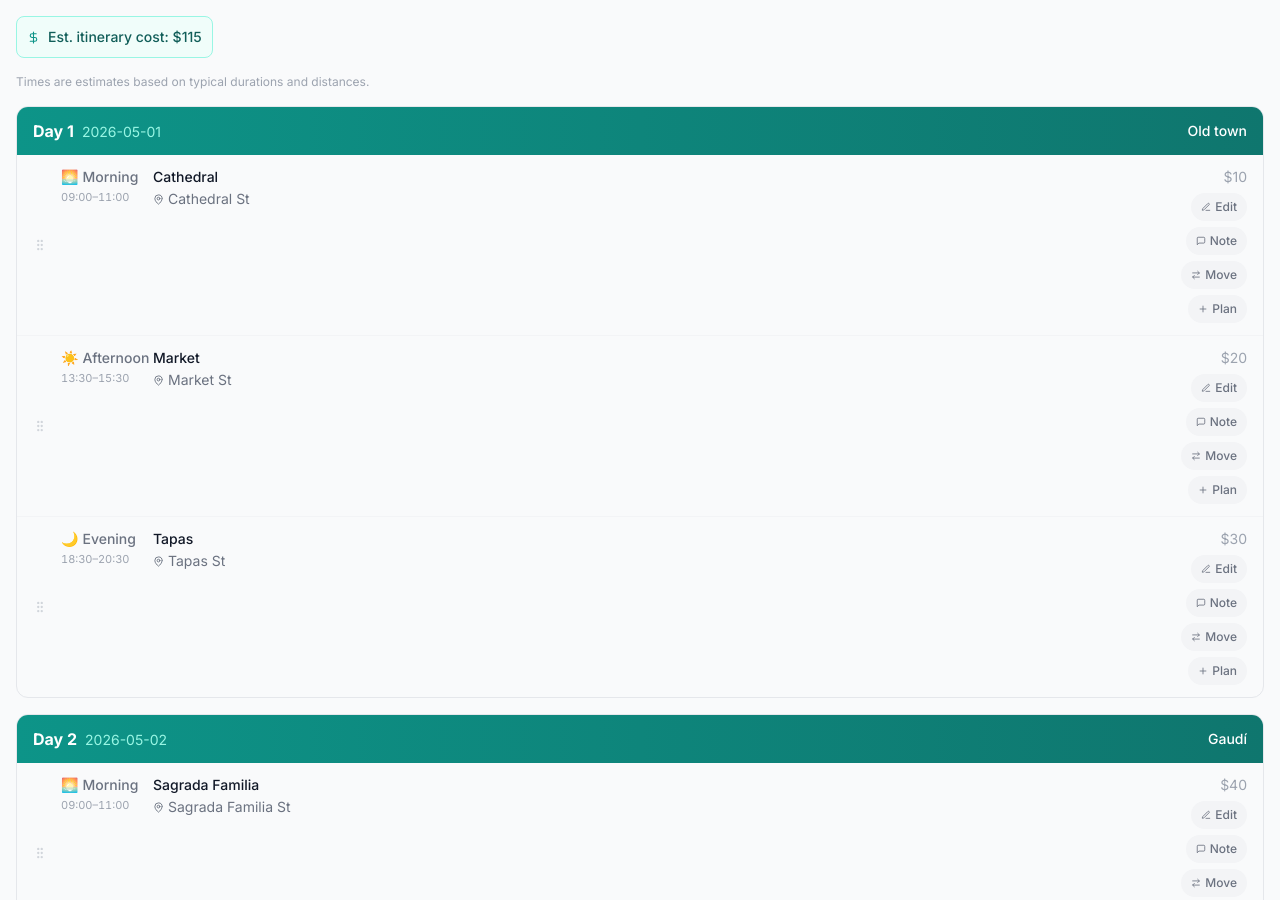
Test: ItinerarySection › Escape closes the Move menu and returns focus to its button
Click the button "Move" below "10".
click(1214, 275)  # box [1181,261,1247,289]
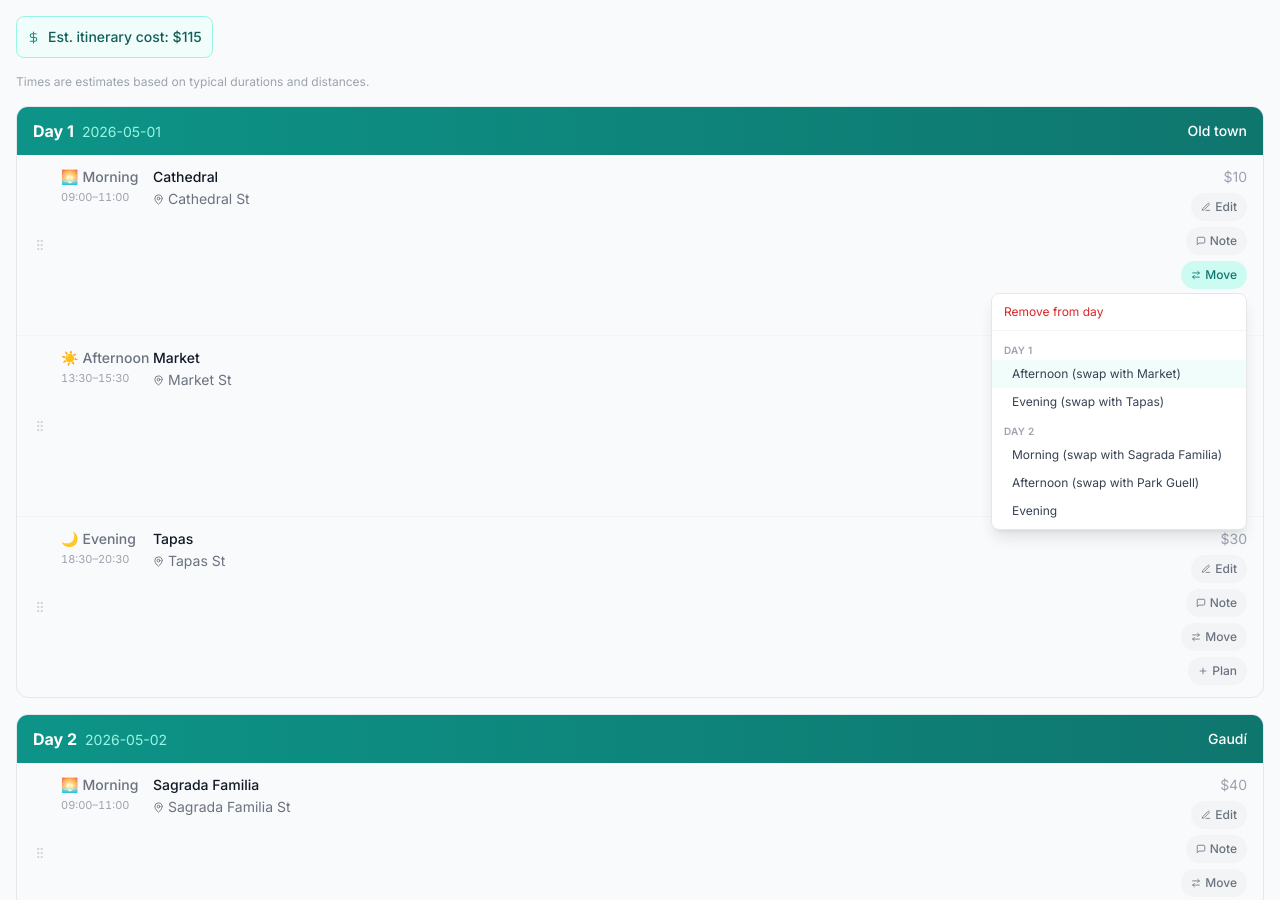
Press Escape in the menu item "Remove from day", box [992,298,1246,326]
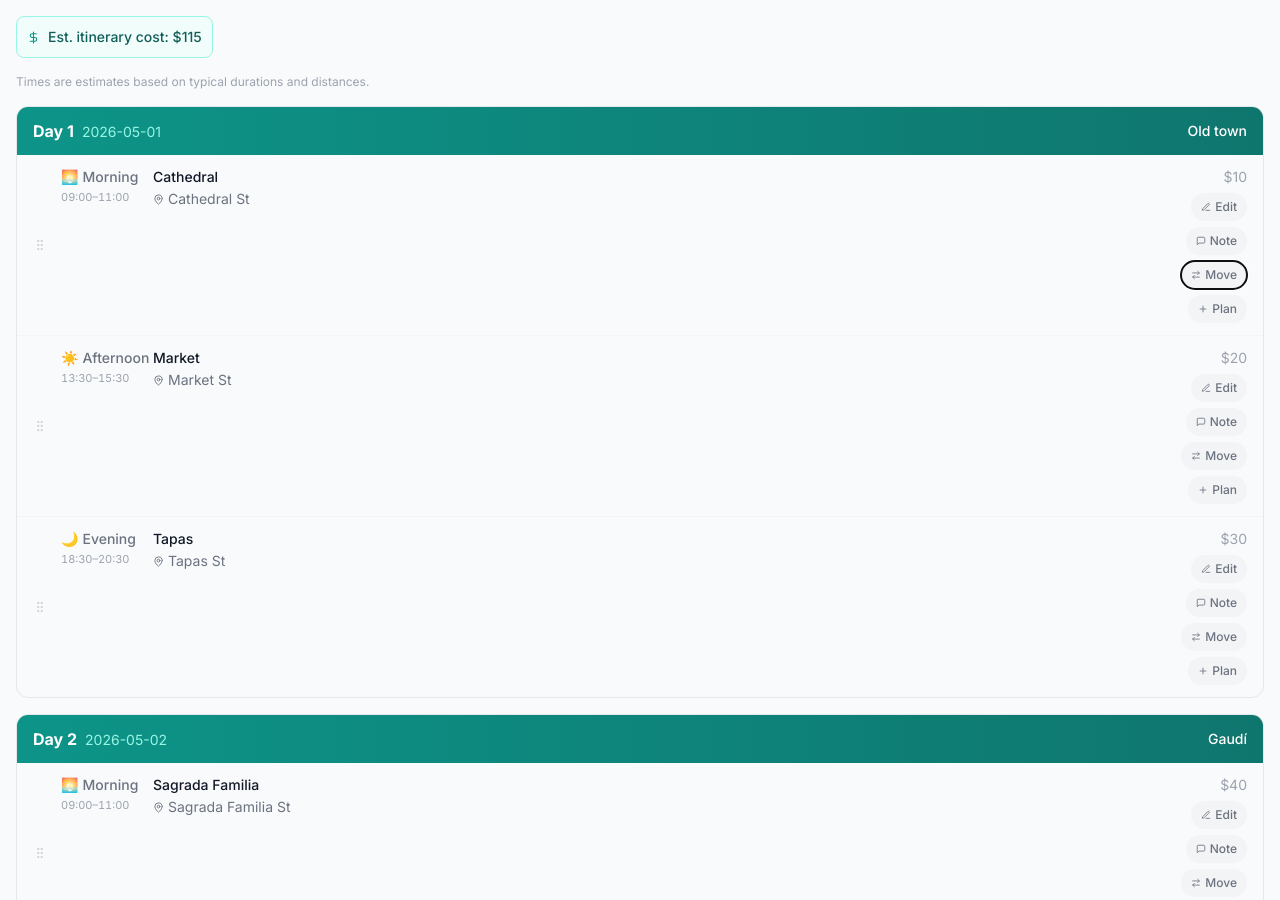
Now the menu is gone
Now the button "Move" below "10" is collapsed, box [1181,261,1247,289]
